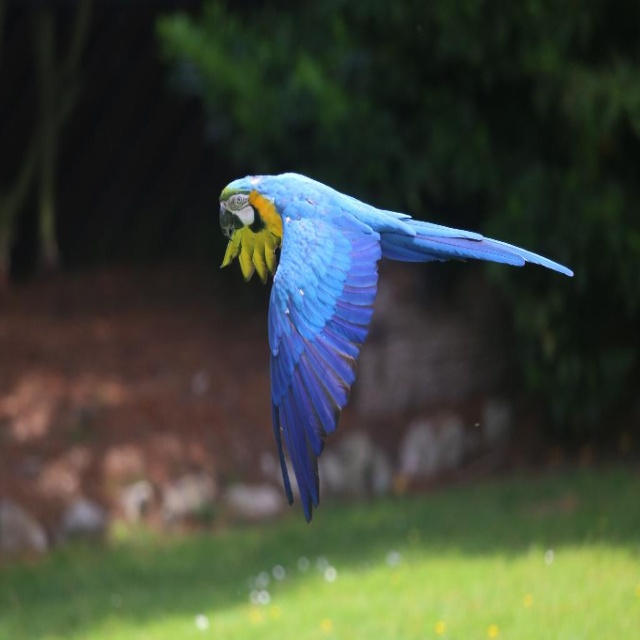Parrot: (218, 165, 576, 519)
